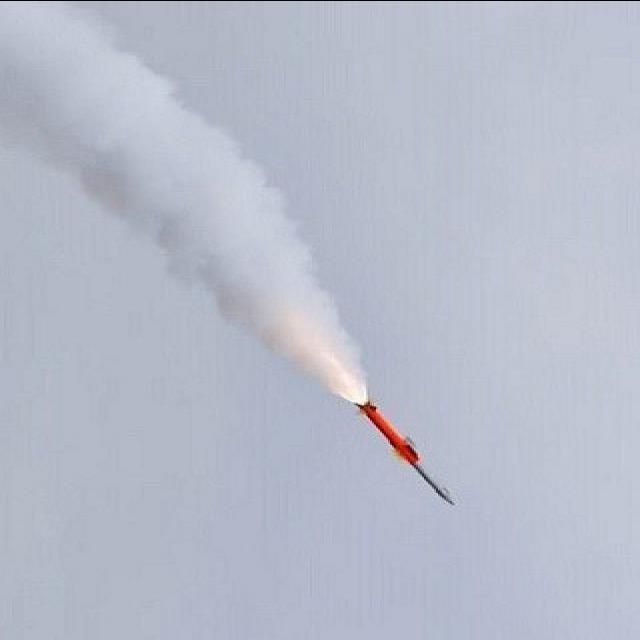missile: (364, 398, 459, 510), (362, 402, 457, 506)
